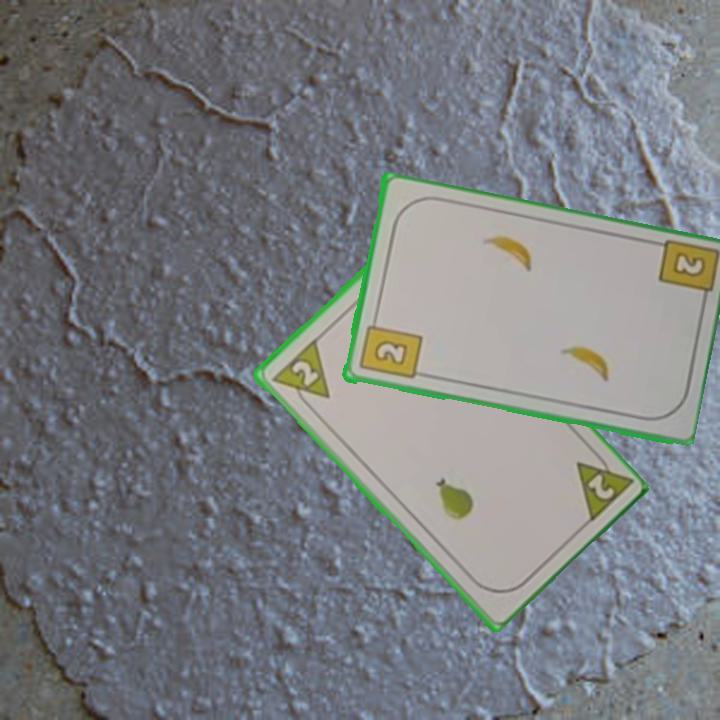2b: (355, 313, 424, 383), (668, 248, 708, 281)
2p: (571, 445, 634, 527), (268, 336, 333, 415)
